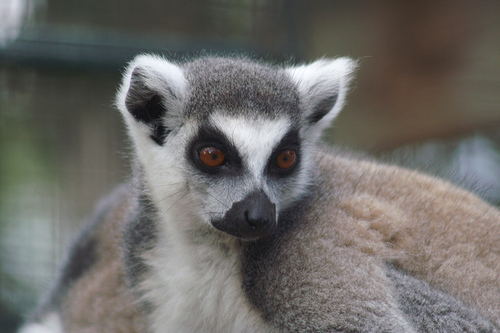cat: (14, 50, 498, 332)
